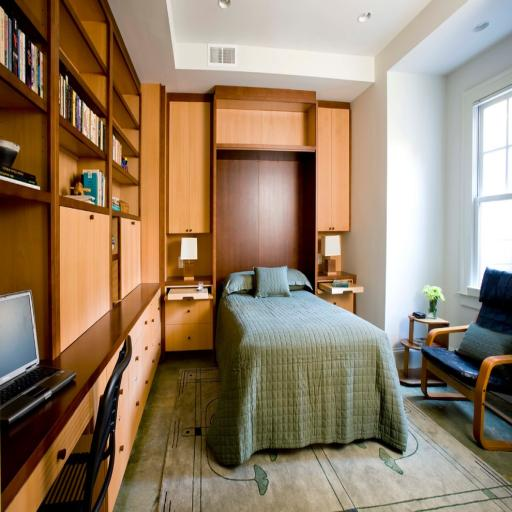bed: (207, 266, 407, 464)
chair: (421, 267, 512, 452), (38, 334, 132, 511)
wall: (341, 0, 469, 369), (444, 32, 512, 354)
